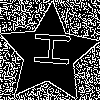H: (24, 29, 71, 68)
